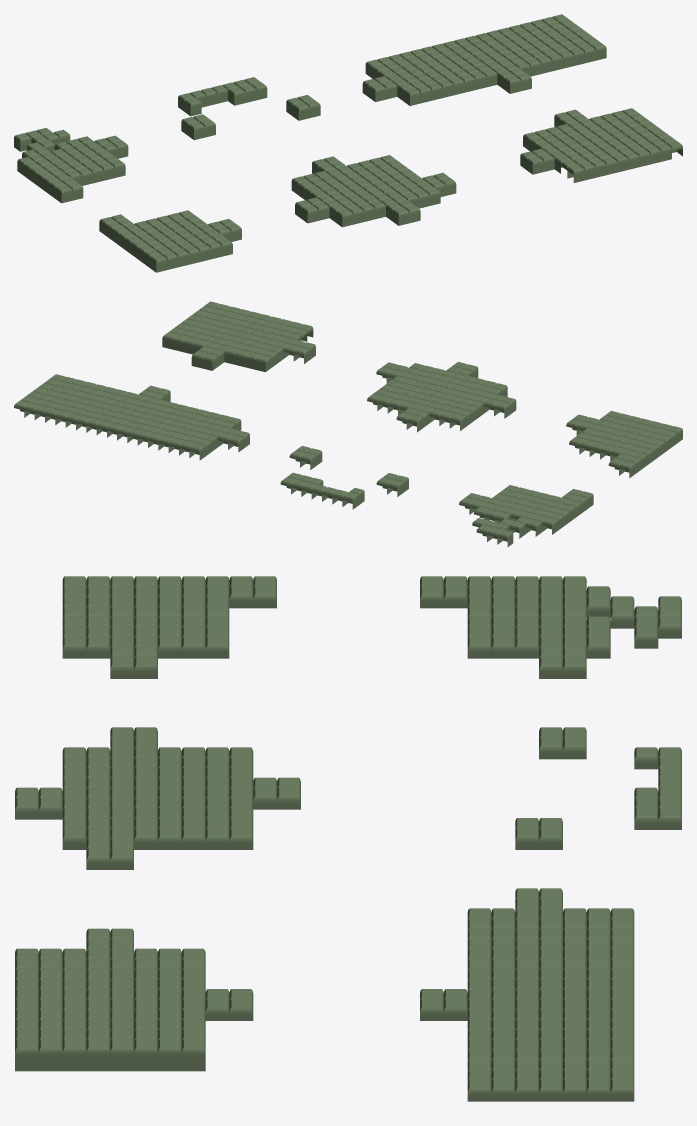
The model's file is level_fixed.fbx.
The picture shows the model from 3 angles, top to bottom: view 1: azimuth 30°, elevation 25°; view 2: azimuth 150°, elevation 25°; view 3: azimuth 270°, elevation 25°; orthographic projection. The views are drawn at different scales.
Parts seen in each view (by area): view 1: no part large enough to name; view 2: no part large enough to name; view 3: lowShape_MASH_l2_c6_Instancer_86, lowShape_MASH_l2_c6_Instancer_81, lowShape_MASH_l2_c6_Instancer_85, lowShape_MASH_l2_c6_Instancer_80, lowShape_MASH_l2_c6_Instancer_82, lowShape_MASH_l2_c6_Instancer_84, lowShape_MASH_l2_c6_Instancer_87.
Part boxes in pixels (x1,y1,x2,y2): lowShape_MASH_l2_c6_Instancer_86: (38, 1039, 62, 1071); lowShape_MASH_l2_c6_Instancer_81: (86, 1039, 110, 1071); lowShape_MASH_l2_c6_Instancer_85: (181, 1039, 205, 1071); lowShape_MASH_l2_c6_Instancer_80: (62, 1039, 86, 1071); lowShape_MASH_l2_c6_Instancer_82: (110, 1039, 133, 1071); lowShape_MASH_l2_c6_Instancer_84: (158, 1039, 181, 1071); lowShape_MASH_l2_c6_Instancer_87: (15, 1039, 38, 1071).
Size of the model in its own units: 5100 by 107 by 2800.
